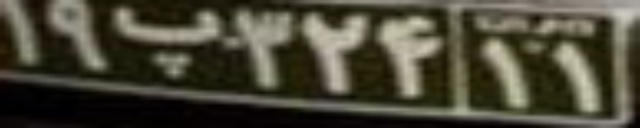1: (549, 41, 604, 114), (478, 36, 532, 108), (0, 0, 40, 66)
2: (299, 11, 370, 95)
3: (232, 6, 294, 89)
4: (375, 14, 445, 99)
9: (43, 1, 108, 71)
pe: (110, 2, 226, 81)
